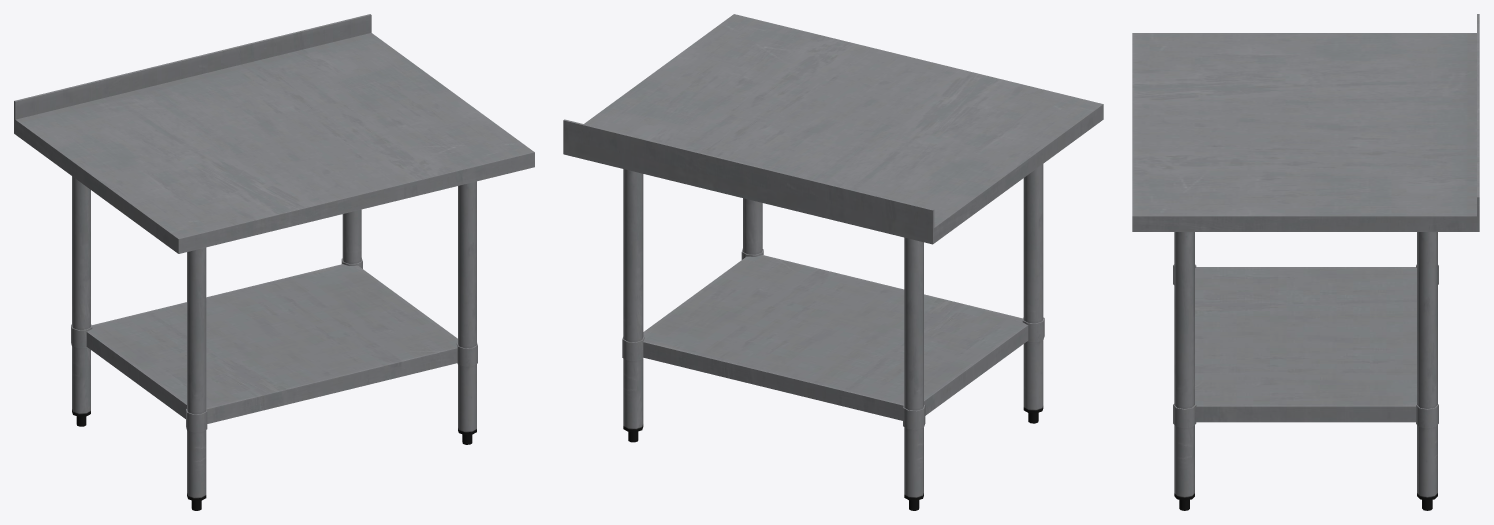
File: SM_Stainless_Steel_Table_02.glb
3 renders of one model, left to right at view 1: azimuth 30°, elevation 25°; view 2: azimuth 150°, elevation 25°; view 3: azimuth 270°, elevation 25°, orthographic. The views are drawn at different scales.
Visible parts, largest first — view 1: SM_Stainless_Steel_Table_02; view 2: SM_Stainless_Steel_Table_02; view 3: SM_Stainless_Steel_Table_02.
Boxes of the visible parts, x1,y1,x2,y2 form: SM_Stainless_Steel_Table_02: (14,14,534,510); SM_Stainless_Steel_Table_02: (563,14,1103,510); SM_Stainless_Steel_Table_02: (1132,14,1479,510).
Bounding box in the file's own units: 1.25 × 1.06 × 1.
Materials: 1 (1 with a texture image).
